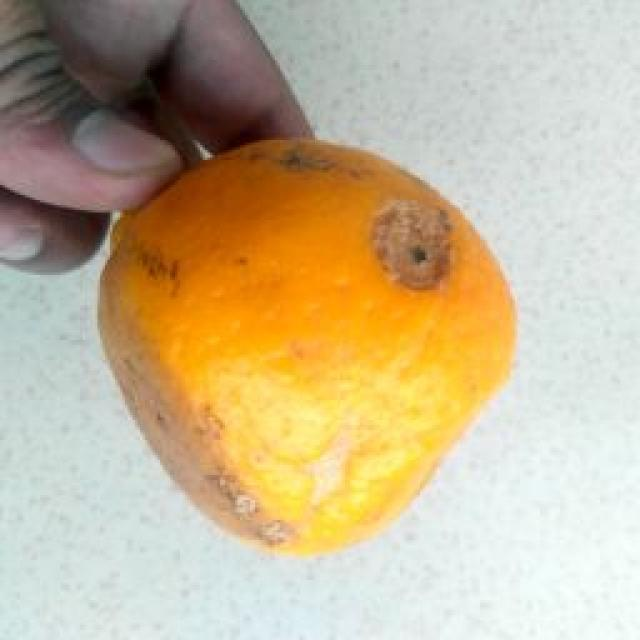Bad_Orange: (99, 140, 515, 553)
